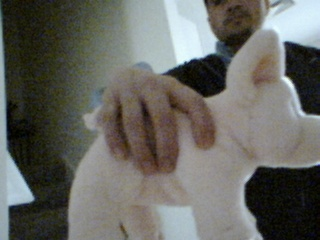piggy: (65, 26, 320, 240)
